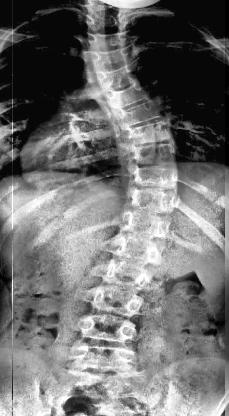Vertebrae: (78, 313, 140, 347), (89, 283, 144, 321), (72, 344, 136, 376), (82, 61, 138, 97), (95, 79, 151, 115), (102, 99, 164, 130), (113, 117, 177, 147), (103, 258, 155, 294), (114, 232, 166, 266), (79, 46, 137, 74), (126, 185, 180, 215), (121, 142, 183, 168), (128, 162, 180, 192), (121, 209, 176, 236), (86, 31, 130, 53)
